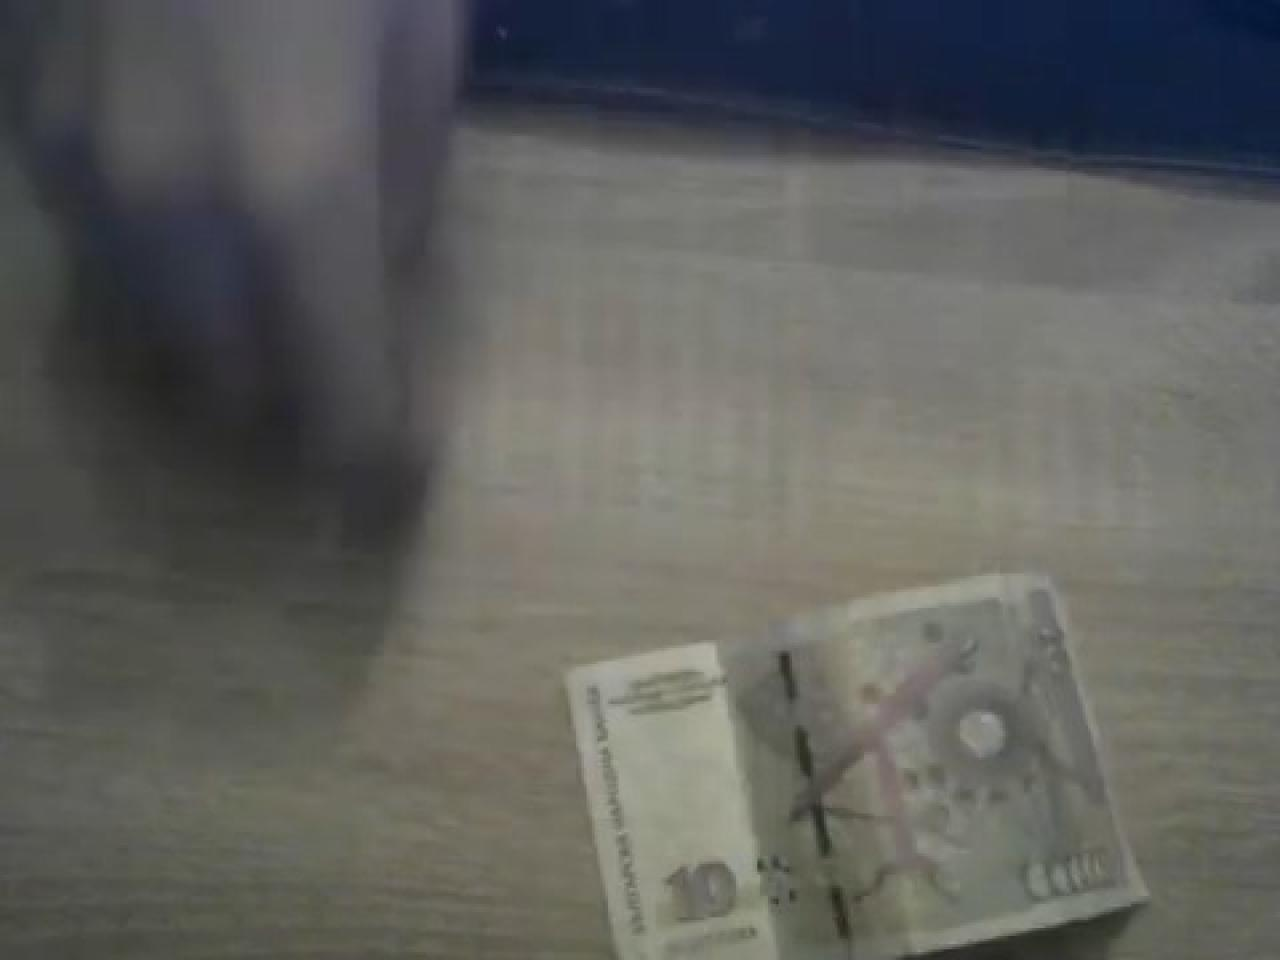10leva: (560, 576, 1149, 960)
